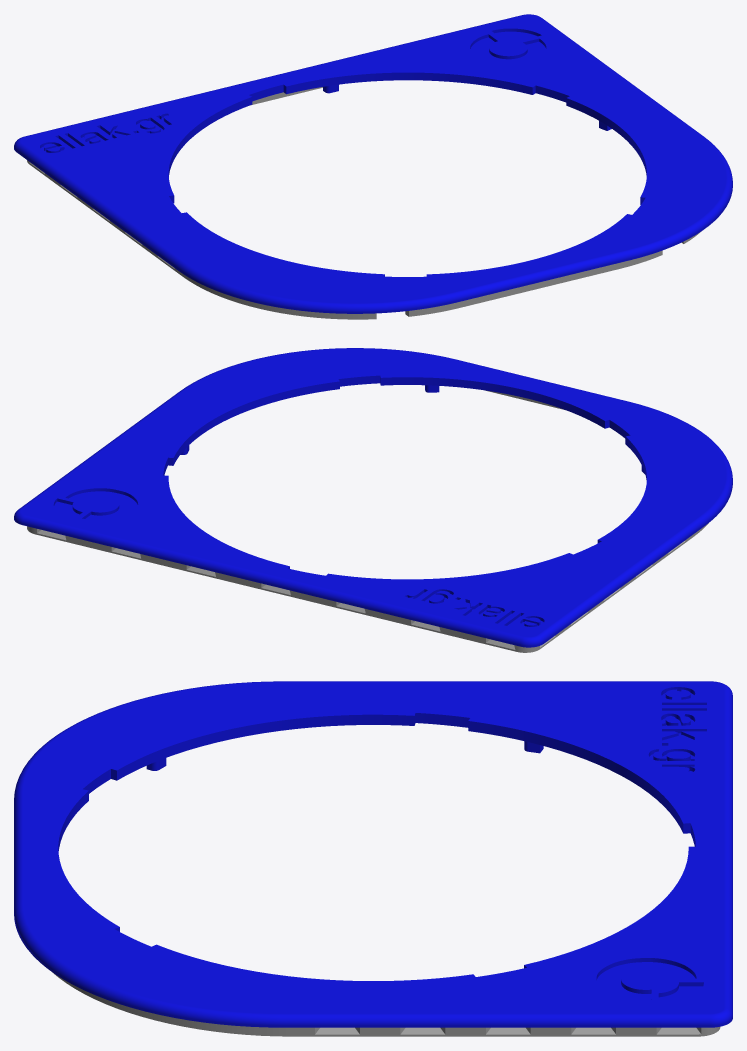
File: top.obj
3 renders of one model, top to bottom at view 1: azimuth 30°, elevation 25°; view 2: azimuth 150°, elevation 25°; view 3: azimuth 270°, elevation 25°, orthographic. The views are drawn at different scales.
Parts seen in each view (by area): view 1: Body1, Body2, Body3; view 2: Body1, Body2; view 3: Body1, Body2.
Boxes of the visible parts, left/top/right/bottom form: Body1: left=14, top=14, right=732, bottom=313; Body2: left=27, top=87, right=701, bottom=319; Body3: left=405, top=250, right=662, bottom=316; Body1: left=14, top=348, right=732, bottom=647; Body2: left=27, top=523, right=708, bottom=652; Body1: left=14, top=681, right=732, bottom=1027; Body2: left=52, top=972, right=720, bottom=1036.
Size of the model in its own units: 179 by 6 by 160.
